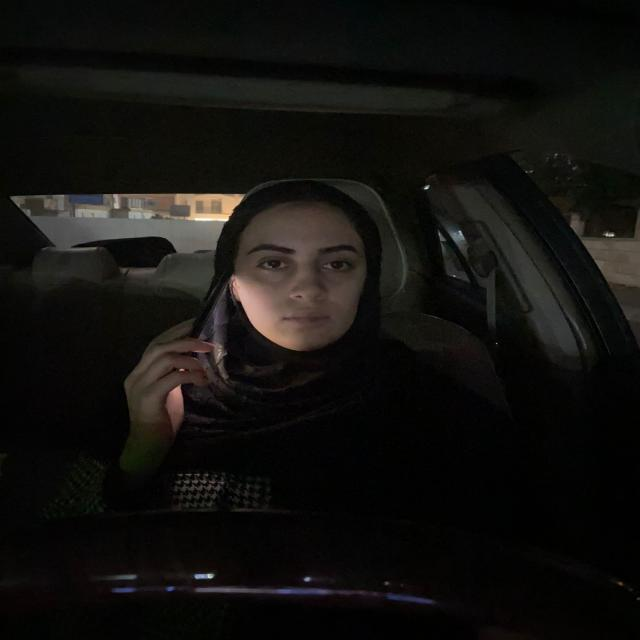mobile: (185, 260, 231, 384)
person: (227, 184, 382, 355)
